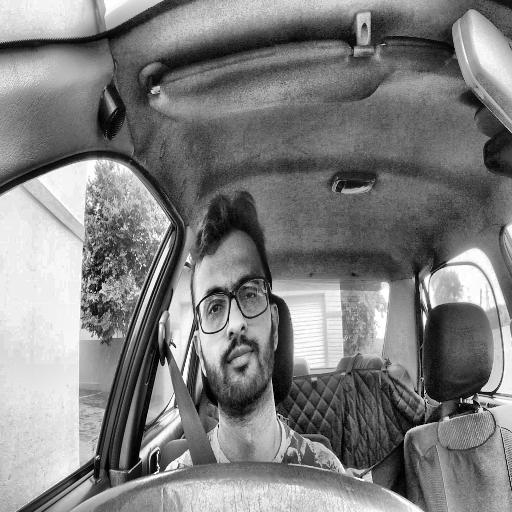awake: (191, 187, 279, 418)
